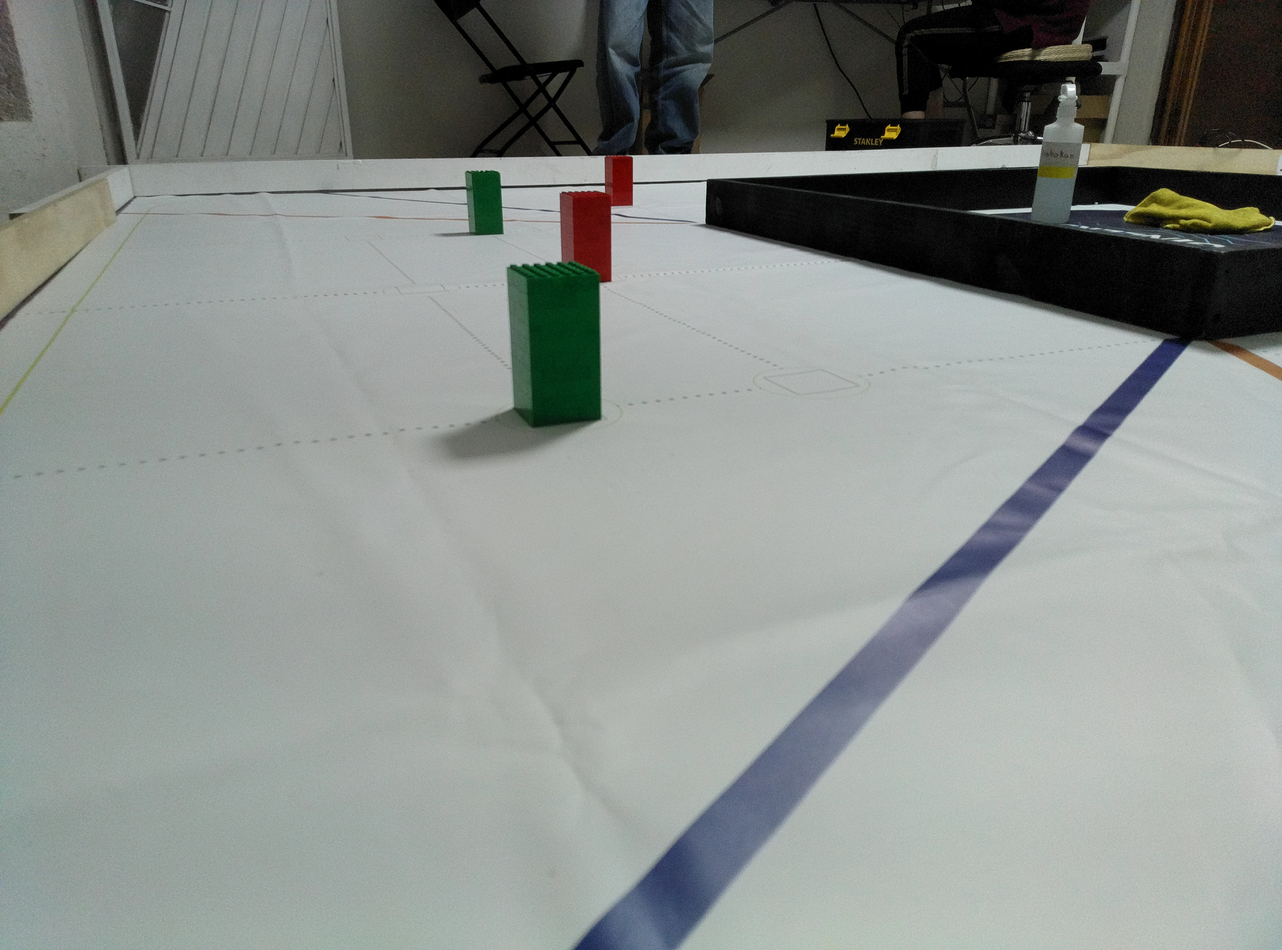greenbox: (505, 262, 603, 429), (464, 169, 505, 236)
redbox: (559, 190, 612, 284), (603, 162, 634, 207)
